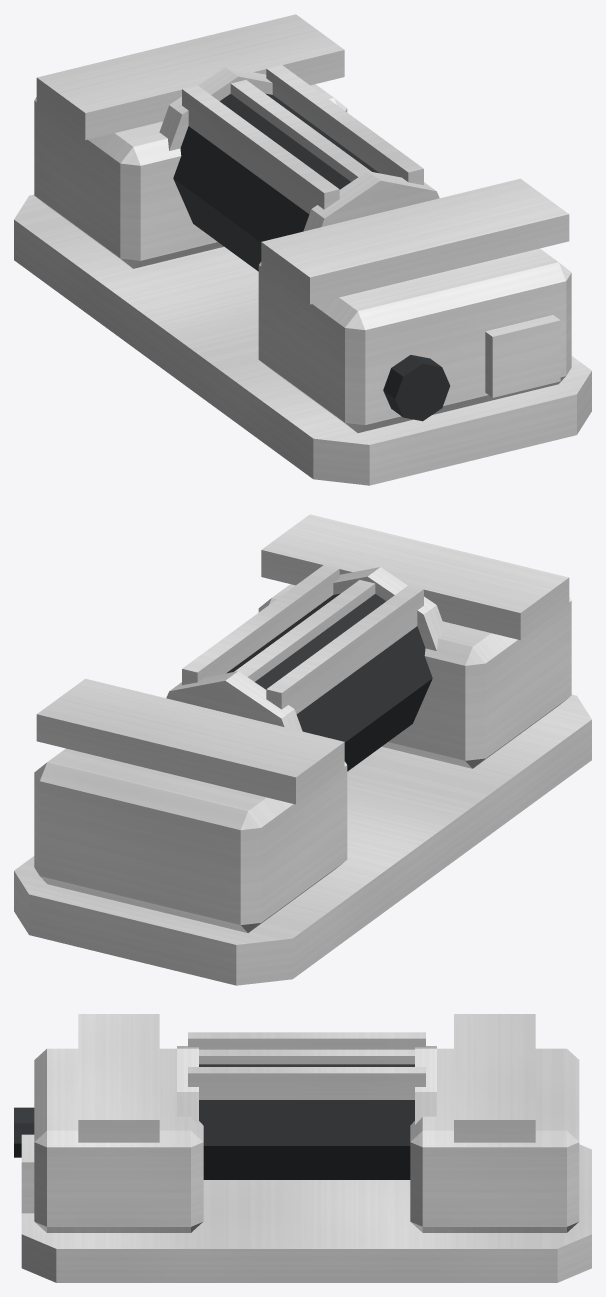
The model's file is deathrest_accelerator.obj.
3 views of the same model, one above another, from view 1: azimuth 30°, elevation 25°; view 2: azimuth 150°, elevation 25°; view 3: azimuth 270°, elevation 25° (orthographic). The views are drawn at different scales.
Parts seen in each view (by area): view 1: deathrest_accelerator; view 2: deathrest_accelerator; view 3: deathrest_accelerator.
Boxes of the visible parts, x1=… form: deathrest_accelerator: x1=14, y1=14, x2=591, y2=485; deathrest_accelerator: x1=14, y1=514, x2=591, y2=985; deathrest_accelerator: x1=14, y1=1014, x2=591, y2=1282.
Bounding box in the file's own units: 0.86 × 0.625 × 1.85.
